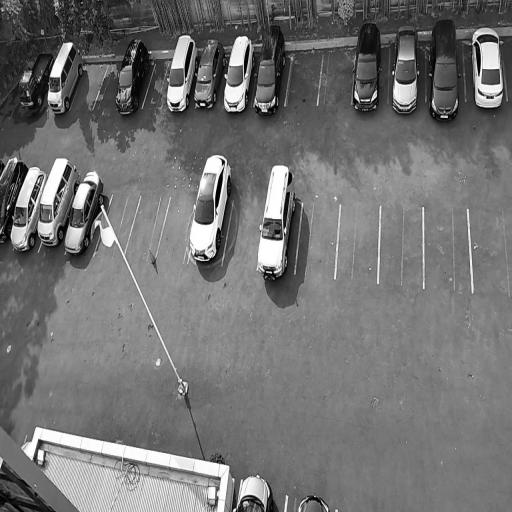Car: (187, 147, 237, 270), (253, 157, 299, 283), (62, 163, 108, 257), (36, 155, 82, 248), (253, 18, 289, 119), (45, 34, 88, 118), (8, 165, 49, 253), (113, 34, 154, 119), (429, 17, 461, 124), (470, 23, 507, 115), (164, 31, 202, 120), (221, 30, 258, 116), (351, 19, 384, 111), (391, 19, 419, 118), (193, 33, 228, 111), (0, 155, 29, 246), (18, 44, 55, 111), (232, 470, 277, 512), (295, 490, 333, 512)
Space Available: (424, 208, 473, 292), (469, 210, 512, 295), (335, 203, 380, 283), (379, 206, 422, 288), (295, 201, 340, 278), (93, 193, 140, 258), (124, 195, 170, 257), (223, 199, 264, 267), (157, 195, 196, 260), (319, 51, 355, 104), (286, 54, 323, 104), (71, 63, 108, 111), (142, 60, 172, 107), (92, 63, 121, 108)
